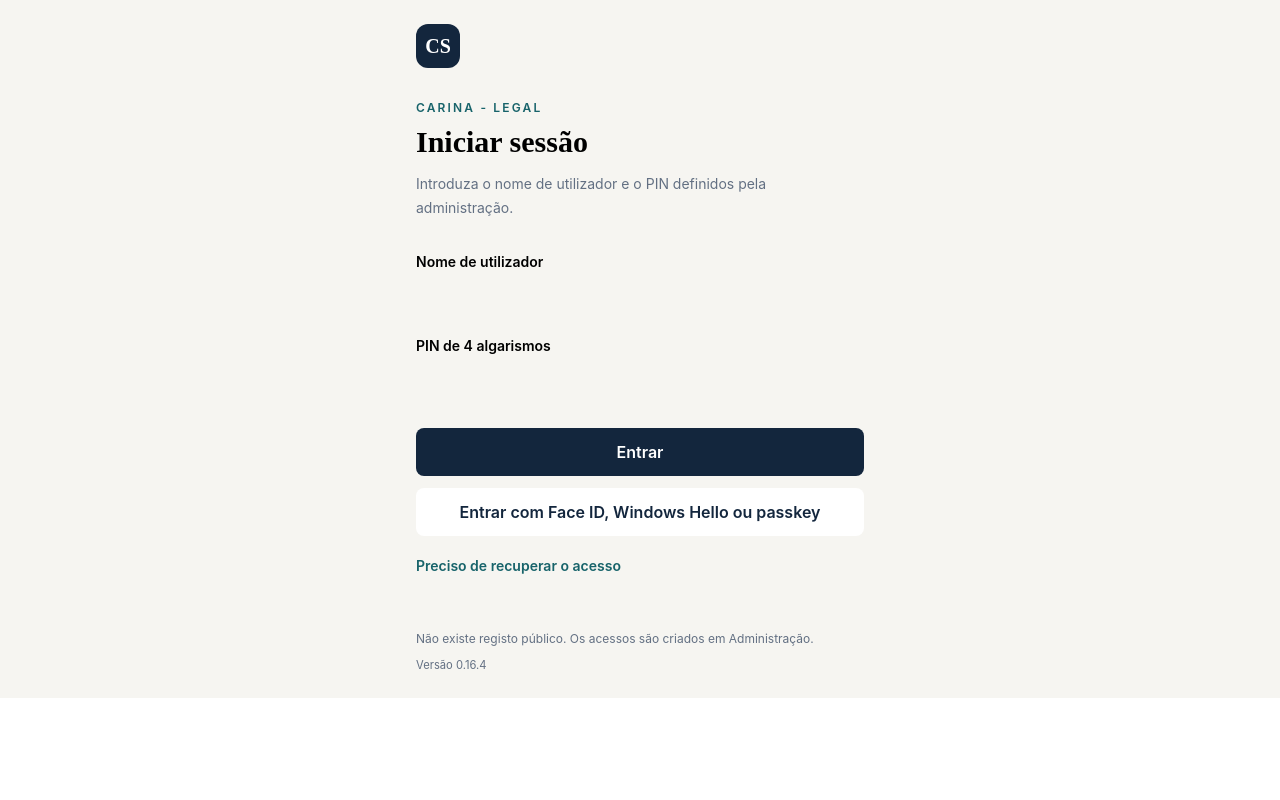
Test: autenticação › mantém recuperação administrativa sem registo público
Step 1. Click the button "Preciso de recuperar o acesso" → (518, 566), box [416,556,621,576]
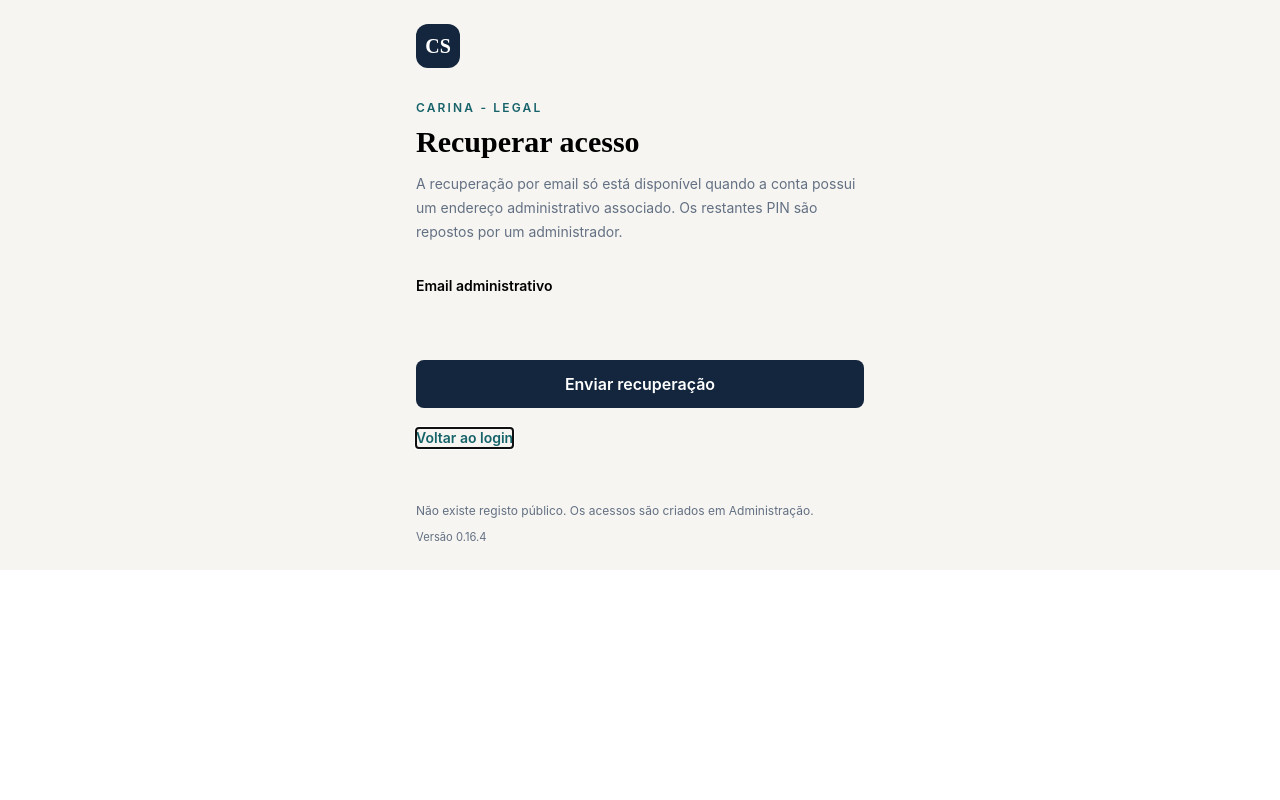
Expected: the heading "Recuperar acesso" is shown, [416,125,640,158]
